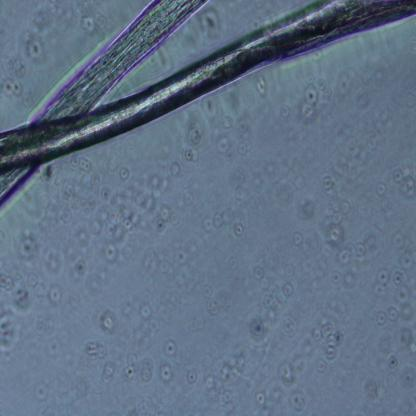Background material: (78, 166, 177, 257), (0, 235, 64, 347), (308, 175, 373, 277), (276, 315, 344, 396), (181, 100, 247, 168), (22, 182, 96, 238), (373, 234, 416, 328), (320, 117, 374, 186), (242, 164, 306, 212), (203, 349, 248, 409), (378, 327, 415, 394), (112, 291, 166, 334), (251, 266, 294, 316), (88, 242, 128, 290), (82, 337, 116, 387), (300, 76, 330, 129), (201, 209, 244, 238), (131, 250, 174, 278), (18, 30, 50, 66), (124, 352, 154, 385), (389, 164, 416, 198), (246, 317, 273, 351), (200, 8, 224, 42), (65, 254, 86, 282), (362, 376, 382, 404), (206, 278, 221, 314), (97, 311, 119, 334), (0, 77, 23, 98), (282, 228, 304, 246), (161, 338, 178, 358), (42, 162, 56, 184), (254, 76, 268, 98), (159, 363, 172, 383), (375, 181, 388, 200)
Microfibre: (0, 0, 416, 173), (0, 0, 206, 207)
